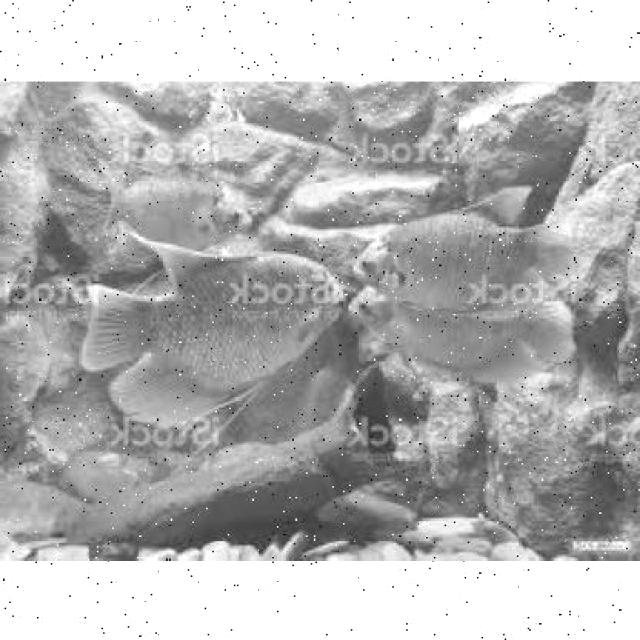gurame: (67, 243, 336, 437), (354, 286, 578, 382), (347, 218, 573, 308)
